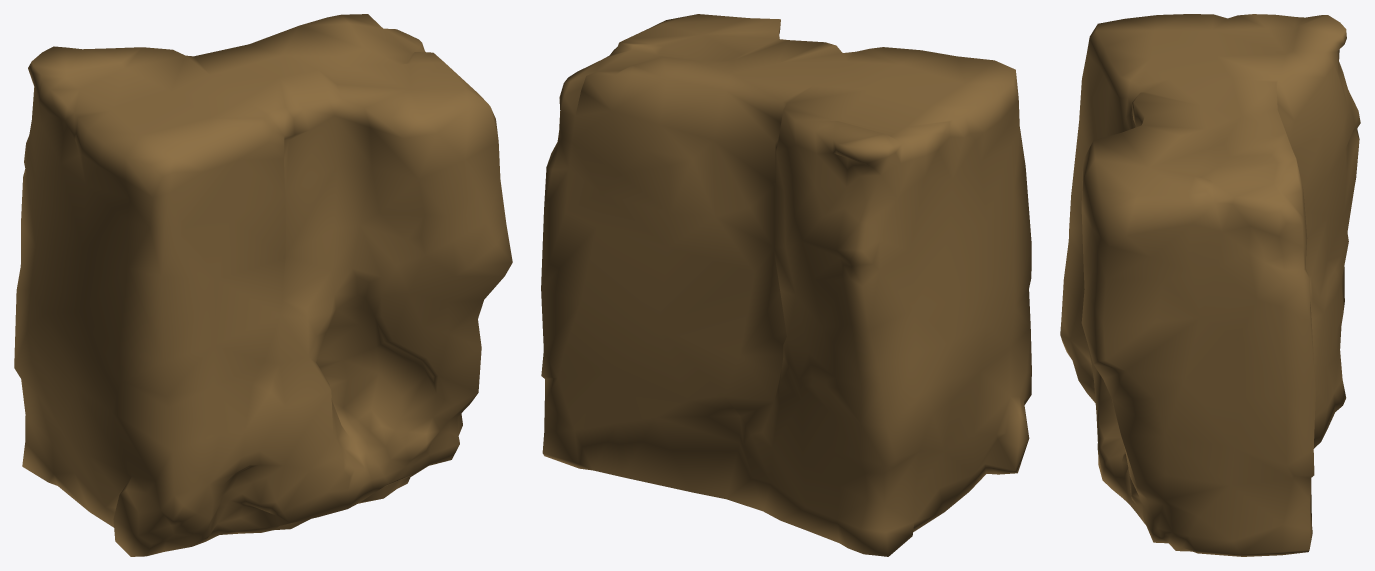
Rendered from MSH_Rocks_Cliff_03_a.FBX.
3 renders of one model, left to right at view 1: azimuth 30°, elevation 25°; view 2: azimuth 150°, elevation 25°; view 3: azimuth 270°, elevation 25°, orthographic. The views are drawn at different scales.
Parts seen in each view (by area): view 1: MESH_LOD0; view 2: MESH_LOD0; view 3: MESH_LOD0.
Part boxes in pixels (left/top/right/bottom): MESH_LOD0: left=14, top=14, right=512, bottom=556; MESH_LOD0: left=541, top=14, right=1031, bottom=556; MESH_LOD0: left=1060, top=14, right=1360, bottom=556.
Size of what is drawn, in the model's own units: 328 by 346 by 234.
